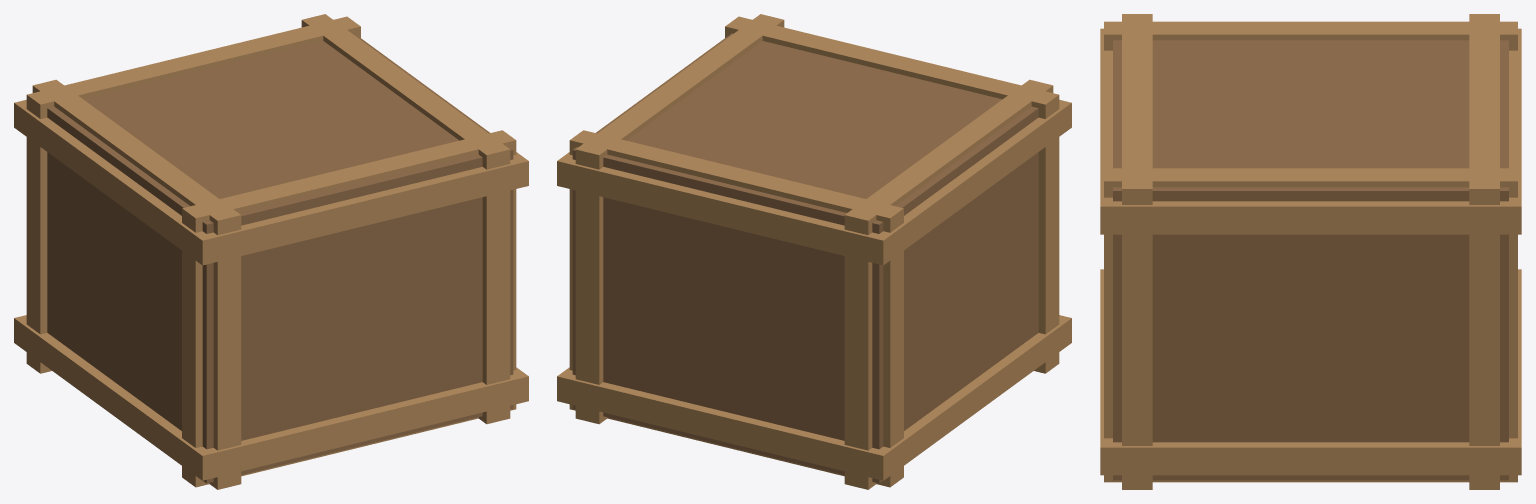
File: crate_01.glb
3 views of the same model, side by side, from view 1: azimuth 30°, elevation 25°; view 2: azimuth 150°, elevation 25°; view 3: azimuth 270°, elevation 25° (orthographic). The views are drawn at different scales.
Parts seen in each view (by area): view 1: world; view 2: world; view 3: world.
Boxes of the visible parts, <box> form: world: <box>14,14,528,489</box>; world: <box>557,14,1071,489</box>; world: <box>1100,14,1521,489</box>.
Bounding box in the file's own units: 1.65 × 1.3 × 1.65.
